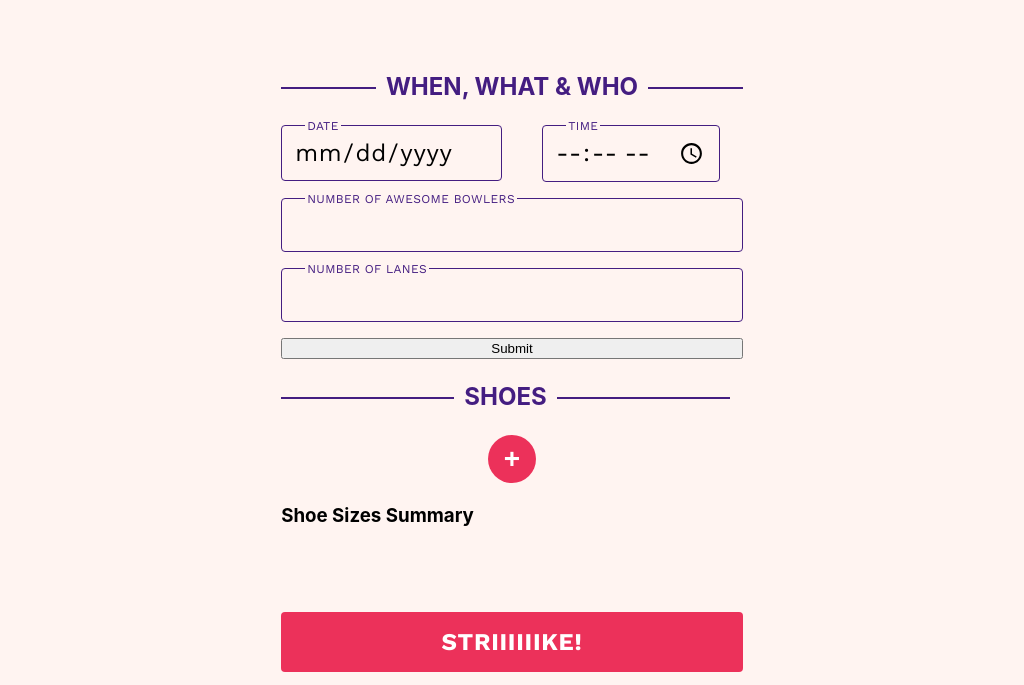
Test case: App component › should show an error message if not all fields are filled
The image size is (1024, 685).
(page scrolled)
Click the button "strIIIIIike!": [512, 642] box [281,612,743,672]
(page scrolled)
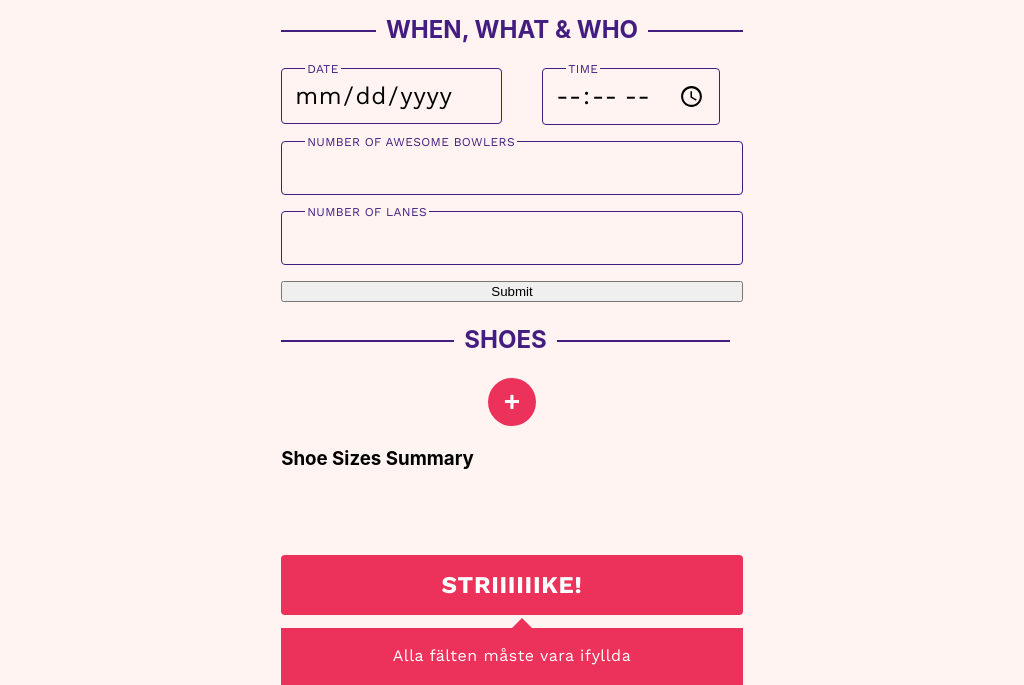
Check: the text "Alla fälten måste vara ifyllda" is shown, box [393,645,631,668]
